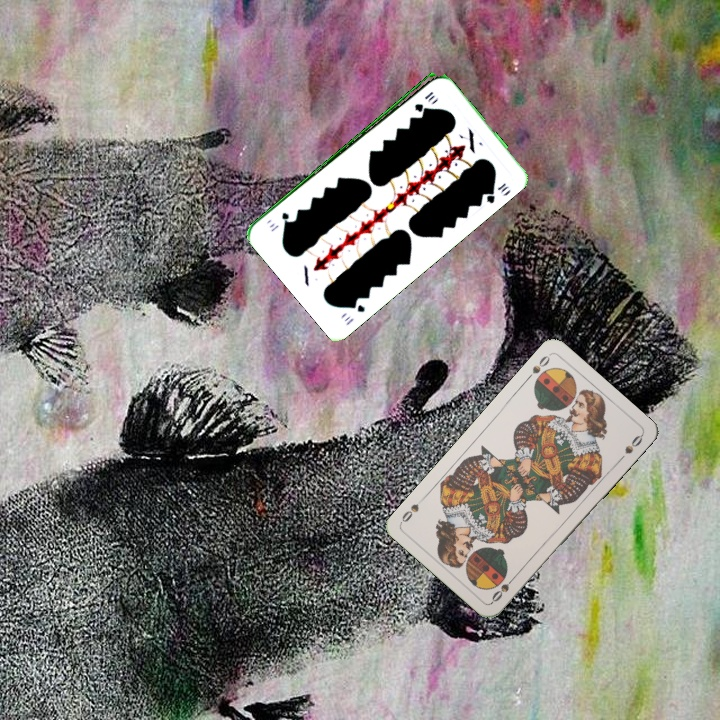G10: (340, 298, 368, 328), (410, 87, 436, 113)
SO: (487, 571, 519, 605), (522, 351, 552, 383)
